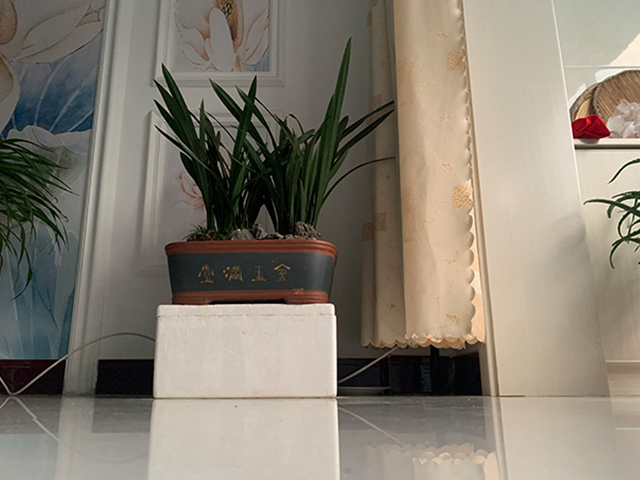curtain: (355, 1, 488, 349)
wire: (1, 331, 155, 397), (338, 347, 397, 385)
